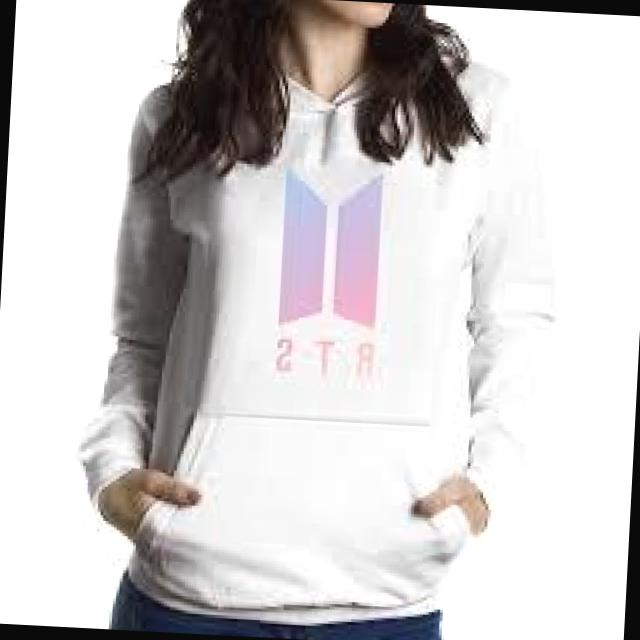sweater: (88, 38, 568, 630)
